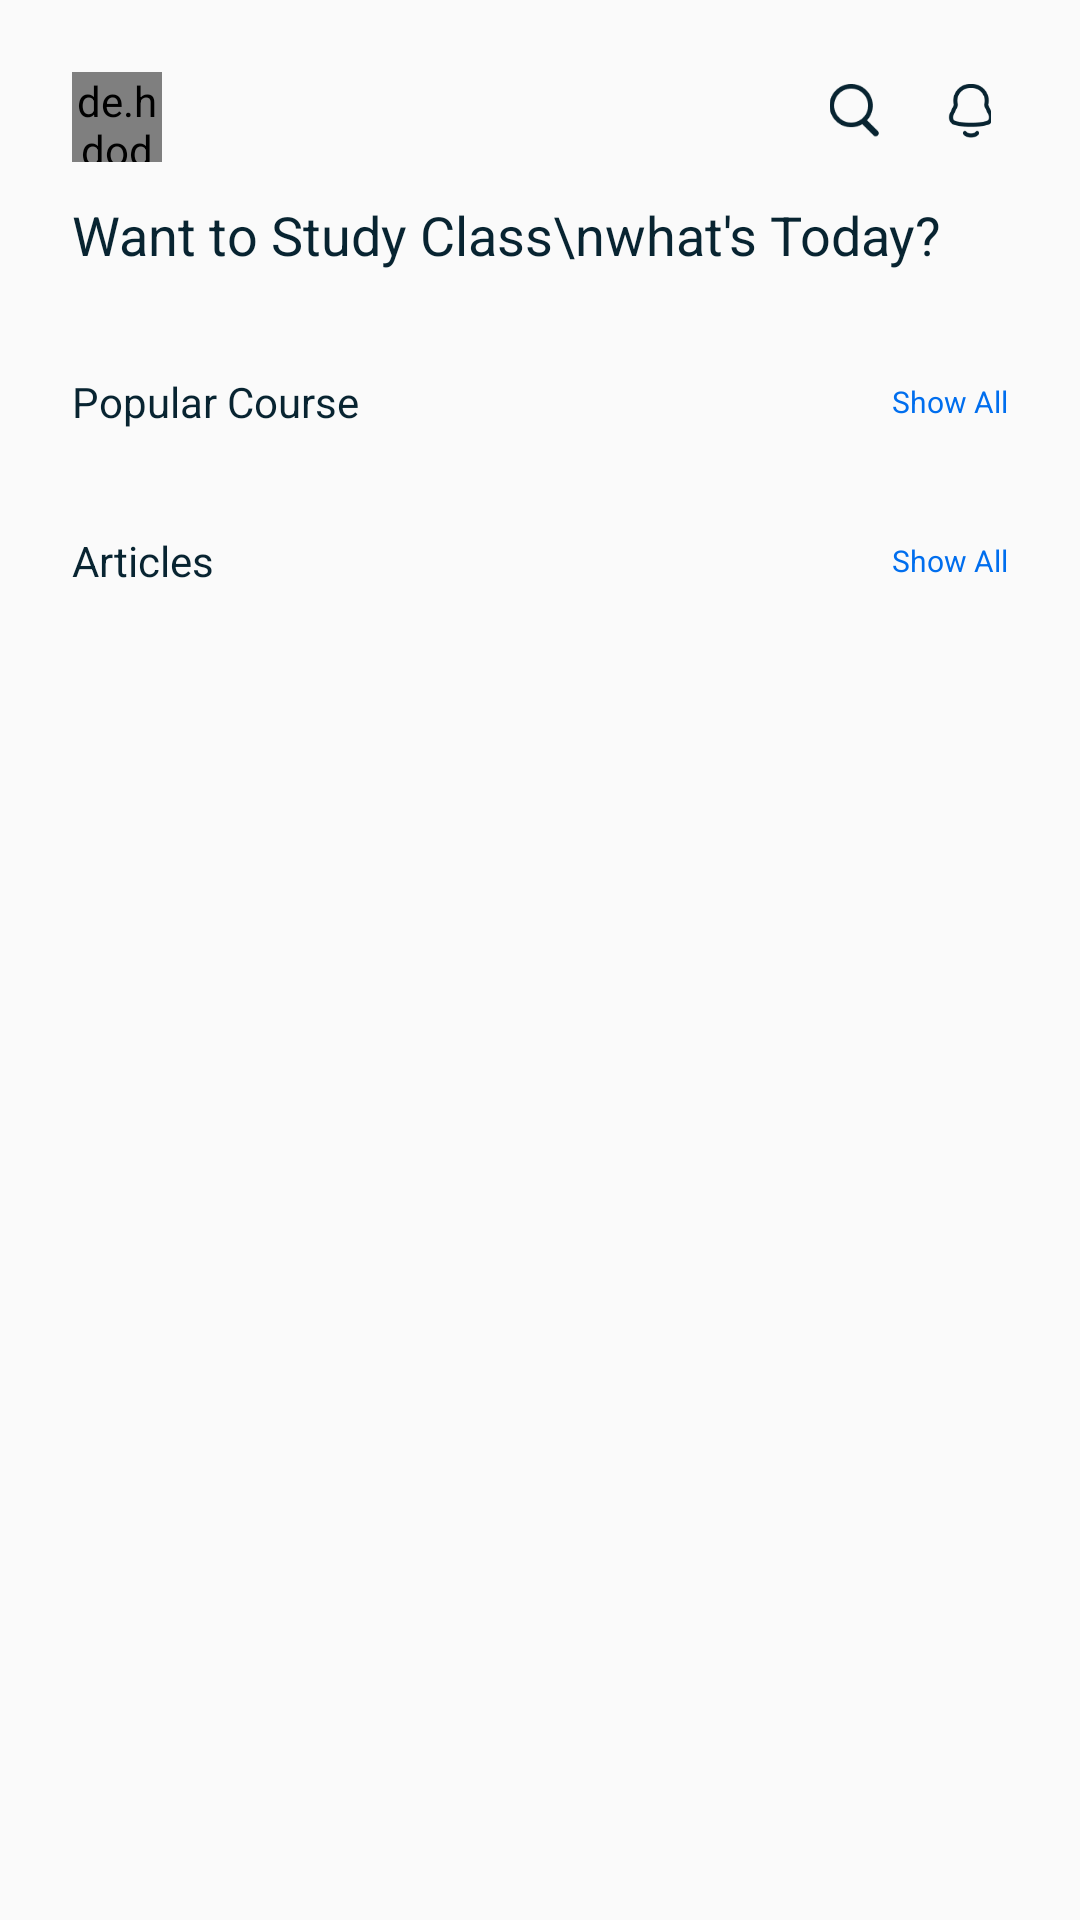

Where icons sit on this 1080x1920 app screen, as box(x1, y1, x2, y2):
notification: box(949, 84, 991, 138)
search: box(830, 84, 879, 137)
